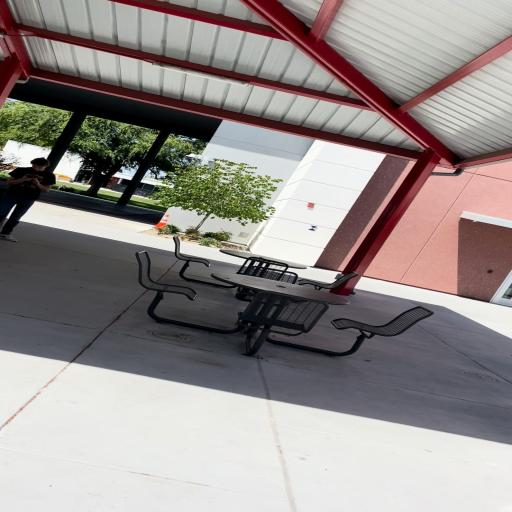target2: (306, 225, 319, 231)
